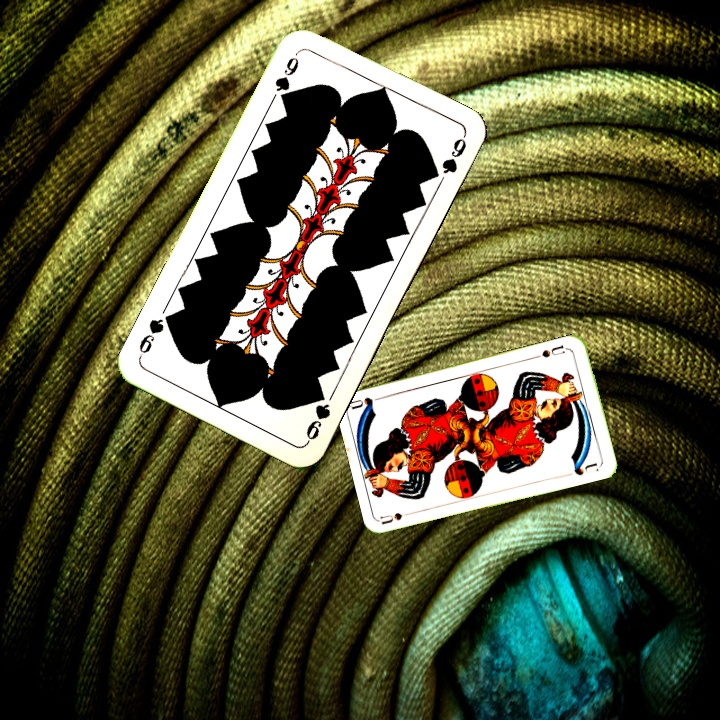G9: (301, 386, 334, 446), (271, 47, 302, 105)
SU: (378, 507, 418, 527), (538, 341, 572, 360)
